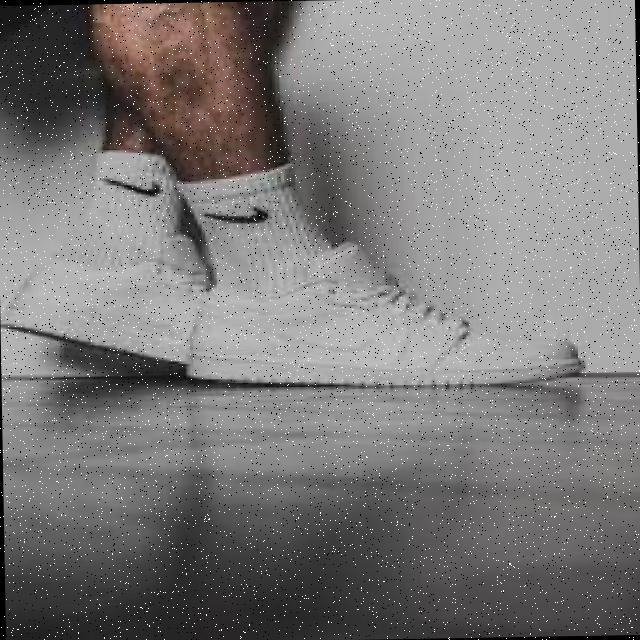Nike: (204, 194, 279, 226), (98, 172, 170, 195)
